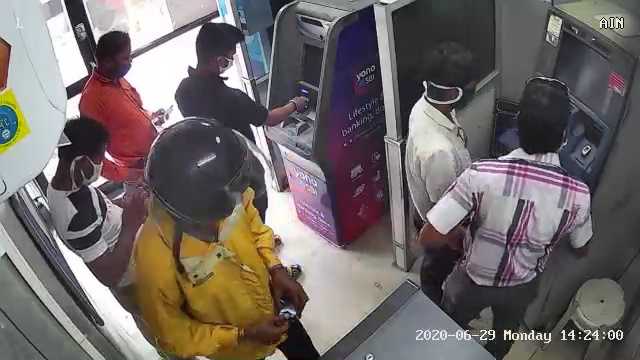helmet: (145, 116, 280, 255)
